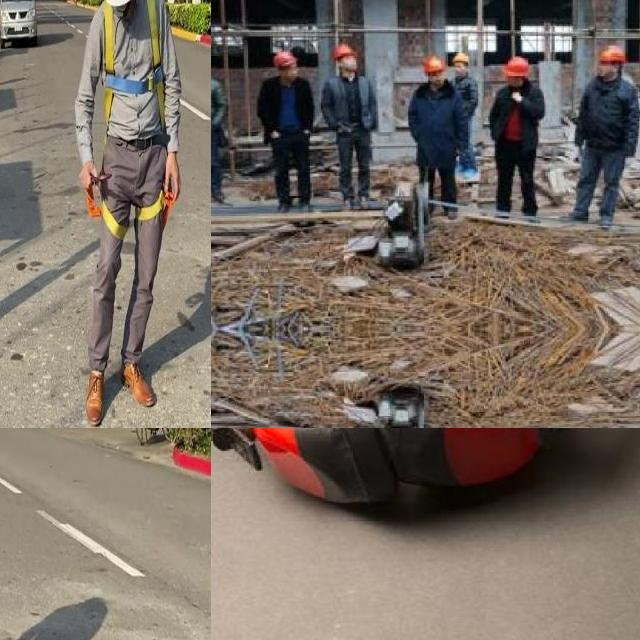Harness: (104, 0, 165, 128), (88, 193, 168, 240)
face_mask: (340, 54, 358, 72)
face_nomask: (596, 59, 614, 82), (428, 70, 446, 87), (284, 62, 300, 80)
head_helmet: (502, 54, 532, 77), (597, 42, 626, 64), (421, 54, 445, 74), (332, 42, 356, 61), (272, 49, 296, 67), (451, 50, 473, 64)
person: (571, 43, 639, 227), (256, 49, 318, 214), (322, 42, 378, 214), (408, 51, 462, 222), (491, 55, 542, 222), (211, 47, 237, 209)
